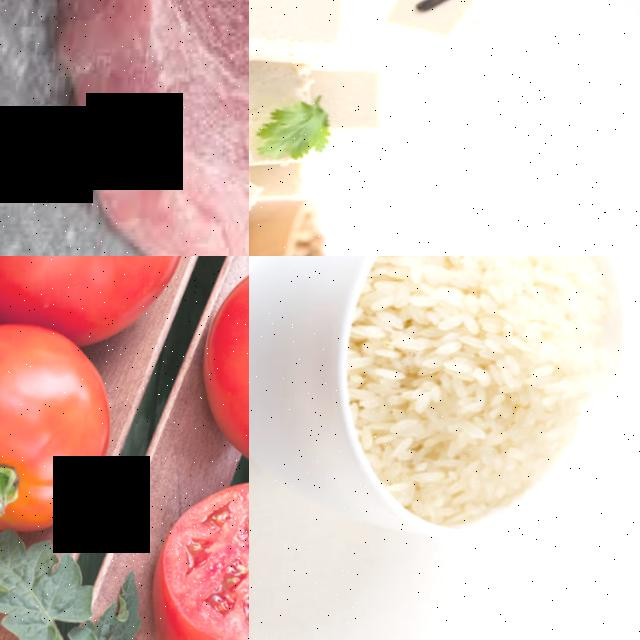tofu: (249, 0, 355, 89), (382, 0, 496, 73), (324, 68, 392, 159)
tomato: (0, 303, 126, 555), (0, 256, 197, 372), (131, 463, 249, 640), (180, 256, 249, 512)
tuna: (0, 0, 249, 256)
white rice: (319, 256, 633, 557)
